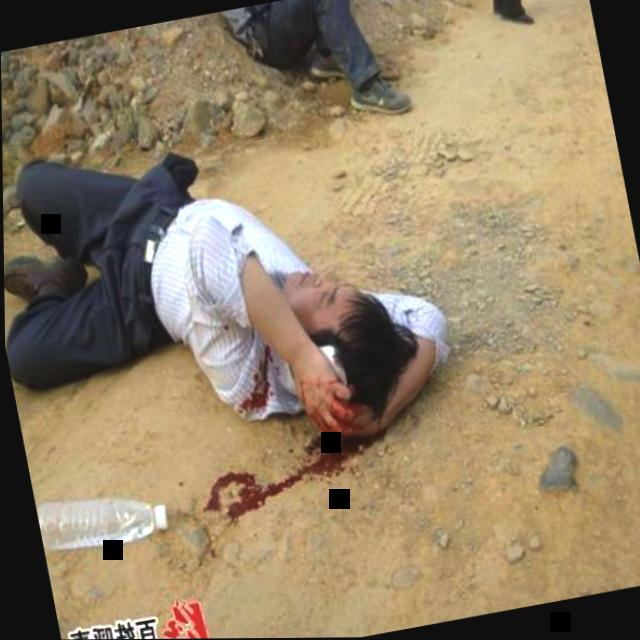Fall-Detected: (1, 71, 475, 523)
